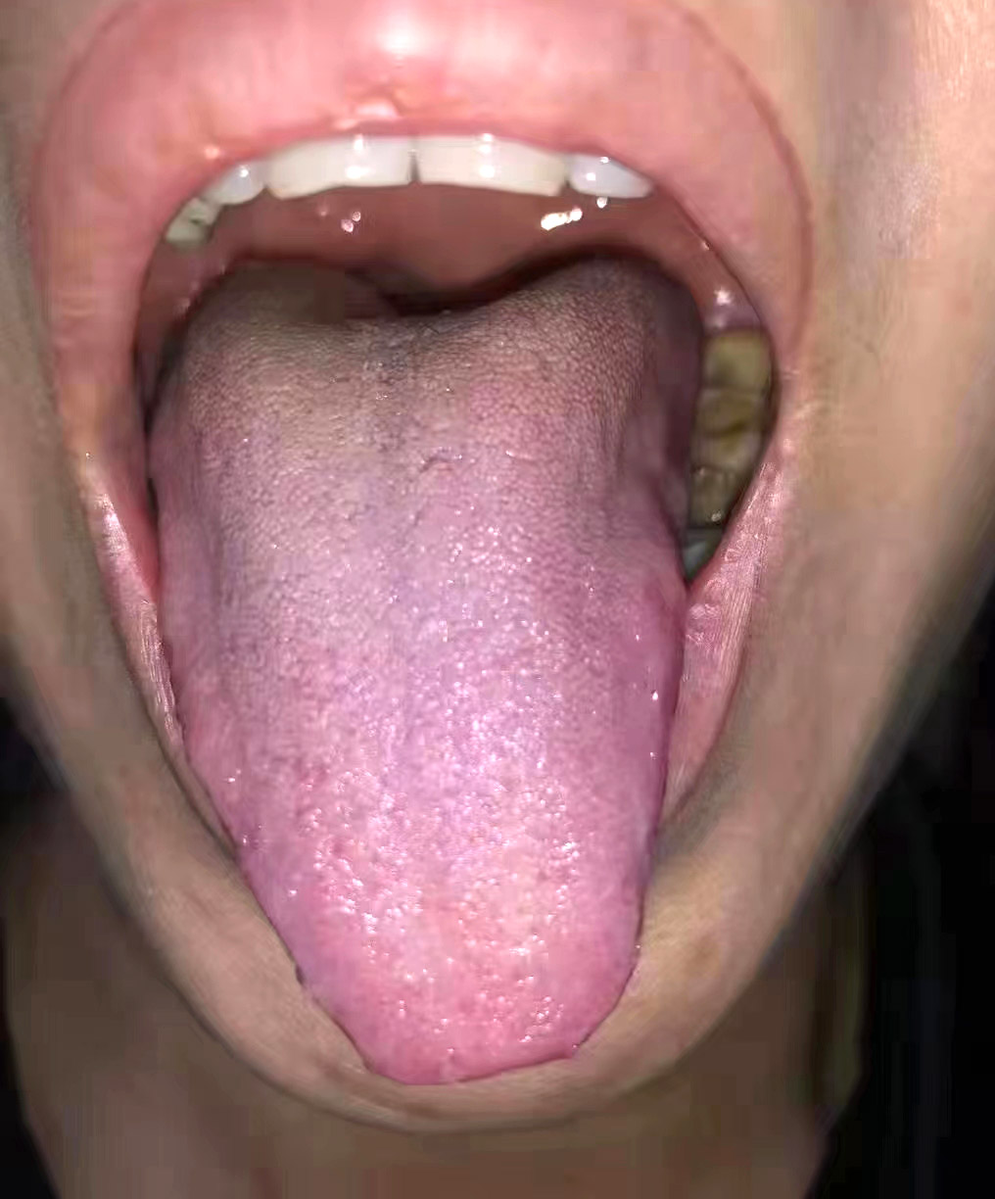hongshe: (152, 264, 704, 1086)
shoushe: (152, 263, 704, 1085)
